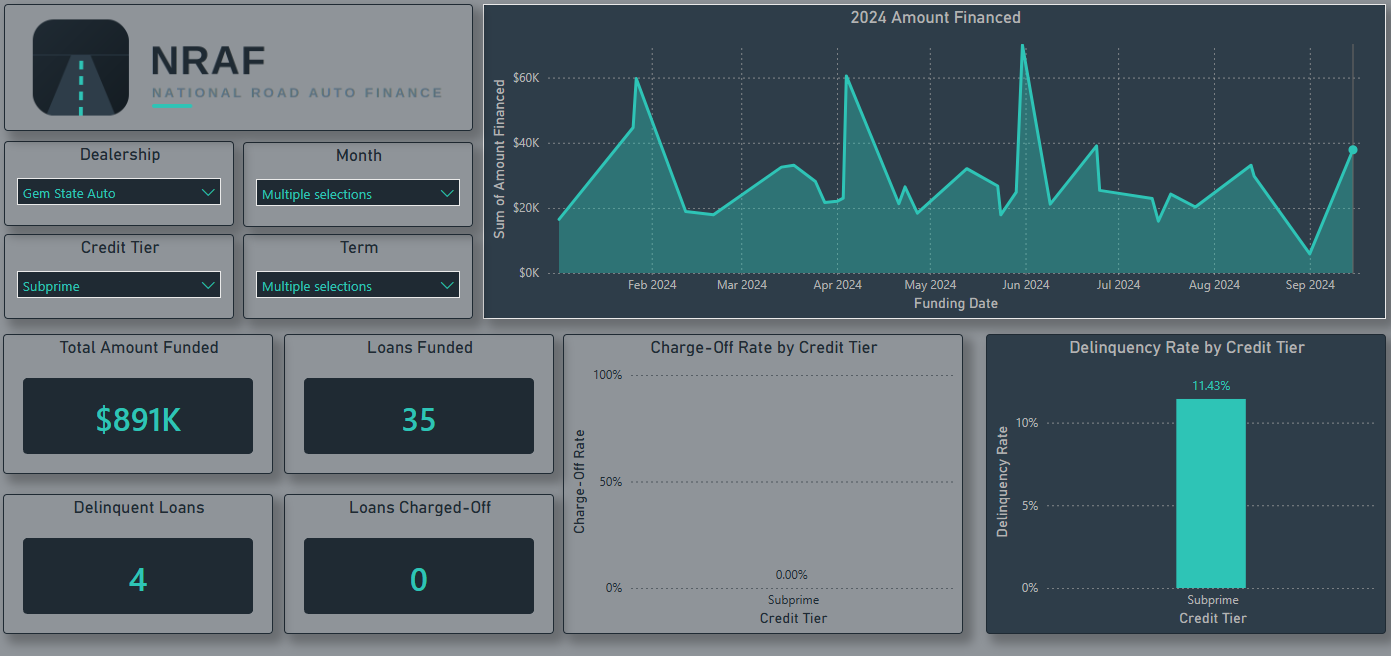

Layout of this report page (visuals, bound fields, positions):
{"tool":"powerbi","page":{"name":"Page 1","canvas":[1400,680],"ordinal":0},"visuals":[{"type":"areaChart","title":"2024 Amount Financed","fields":{"Category":["Working Loan Data.Funding Date"],"Y":["Sum(Working Loan Data.Amount Financed)"]},"box":[488,10,903,315],"z":0},{"type":"slicer","title":"Dealership","fields":{"Values":["Working Loan Data.Dealership"]},"box":[8.9,146.6,230,85],"z":1000},{"type":"slicer","title":"Month","fields":{"Values":["Working Loan Data.Funding Date.Variation.Date Hierarchy.Month"]},"box":[247.8,147.7,230,85],"z":2000},{"type":"slicer","title":"Credit Tier","fields":{"Values":["Working Loan Data.Credit Tier"]},"box":[8.9,240,230,85],"z":3000},{"type":"slicer","title":"Term","fields":{"Values":["Working Loan Data.Loan Term (Months)"]},"box":[247.8,239.9,230,85],"z":4000},{"type":"cardVisual","title":"Loans Funded","fields":{"Data":["CountNonNull(Working Loan Data.Loan ID)"]},"box":[288.7,339.6,270,140],"z":5000},{"type":"cardVisual","title":"Total Amount Funded","fields":{"Data":["Sum(Working Loan Data.Amount Financed)"]},"box":[8.5,339.6,270,140],"z":6000},{"type":"image","box":[8.9,10,468.9,126.7],"z":7000},{"type":"cardVisual","title":"Loans Charged-Off","fields":{"Data":["Working Loan Data.Loans Charged-Off"]},"box":[288.7,500,270,140],"z":8000},{"type":"columnChart","fields":{"Category":["Working Loan Data.Credit Tier"],"Y":["Working Loan Data.Delinquency Rate"]},"box":[990.6,339.6,400,300],"z":9000},{"type":"columnChart","fields":{"Category":["Working Loan Data.Credit Tier"],"Y":["Working Loan Data.Charge-Off Rate"]},"box":[567.9,339.6,400,300],"z":10000},{"type":"cardVisual","title":"Delinquent Loans","fields":{"Data":["Working Loan Data.Loans Delinquent"]},"box":[8.5,500,270,140],"z":11000}]}

Visuals, with their boxes in screenshot pixels (x1, y1, x2, y2), scaled from the page's 1400x680 canvas onto the 1391x656 screenshot:
"2024 Amount Financed" areaChart: [485,10,1382,314]
"Dealership" slicer: [9,141,237,223]
"Month" slicer: [246,142,475,224]
"Credit Tier" slicer: [9,232,237,314]
"Term" slicer: [246,231,475,313]
"Loans Funded" cardVisual: [287,328,555,463]
"Total Amount Funded" cardVisual: [8,328,277,463]
image: [9,10,475,132]
"Loans Charged-Off" cardVisual: [287,482,555,617]
columnChart - Working Loan Data.Credit Tier x Working Loan Data.Delinquency Rate: [984,328,1382,617]
columnChart - Working Loan Data.Credit Tier x Working Loan Data.Charge-Off Rate: [564,328,962,617]
"Delinquent Loans" cardVisual: [8,482,277,617]
